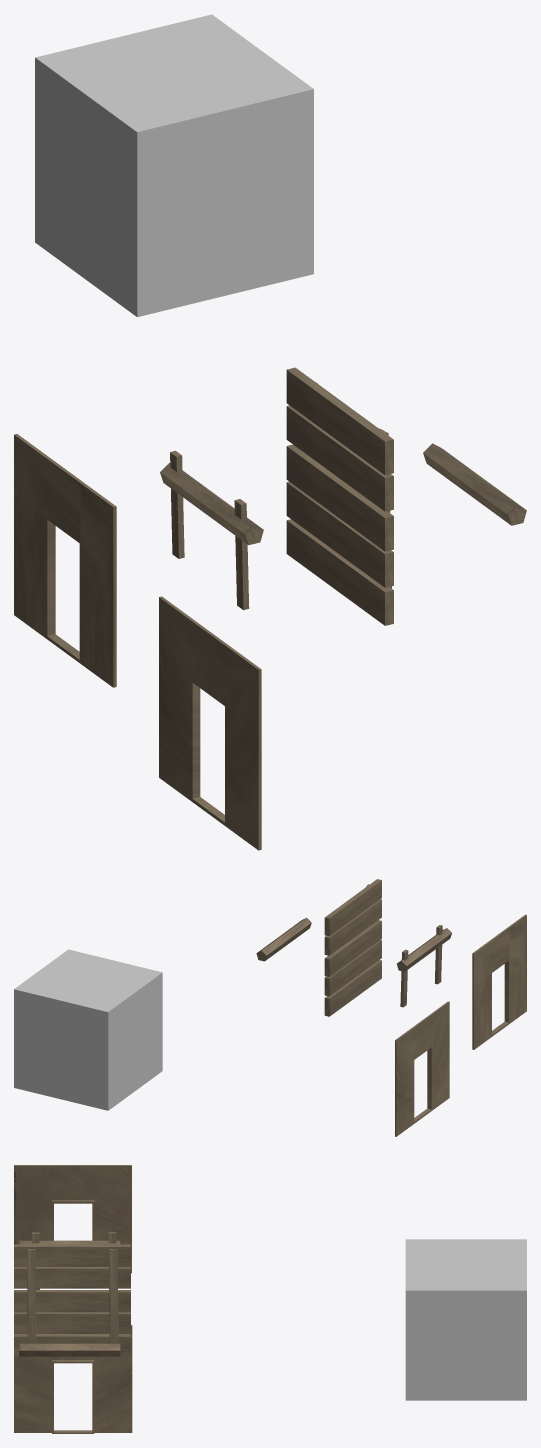
File: minimalist_fence.obj
3 views of the same model, one above another, from view 1: azimuth 30°, elevation 25°; view 2: azimuth 150°, elevation 25°; view 3: azimuth 270°, elevation 25° (orthographic). The views are drawn at different scales.
Visible parts, largest first — view 1: Cube.001, Cube.002, Cube, Cube.007, Cube.005, Cube.006, Cube.004, Cube.003, Cylinder.001, Cylinder, Cube.012_Cube.017, Cube.010; view 2: Cube.001, Cube.002, Cube, Cube.007, Cube.005, Cube.006, Cube.004, Cube.003, Cylinder.001, Cylinder, Cube.012_Cube.017, Cube.010; view 3: Cube.001, Cube.002, Cube, Cube.007, Cube.005, Cube.003, Cube.004, Cylinder.001, Cube.006, Cube.008, Cube.009, Cylinder.
Part boxes in pixels (box(x1,y1,x2,y2)): Cube.001: box(35, 14, 313, 317); Cube.002: box(14, 434, 116, 687); Cube: box(159, 596, 261, 850); Cube.007: box(286, 367, 393, 475); Cube.005: box(286, 444, 393, 551); Cube.006: box(286, 519, 393, 625); Cube.004: box(286, 405, 393, 511); Cube.003: box(286, 481, 393, 587); Cylinder.001: box(423, 443, 526, 525); Cylinder: box(160, 463, 263, 545); Cube.012_Cube.017: box(234, 499, 249, 610); Cube.010: box(170, 450, 184, 558); Cube.001: box(14, 949, 162, 1110); Cube.002: box(472, 914, 526, 1049); Cube: box(395, 1001, 449, 1136); Cube.007: box(324, 879, 381, 936); Cube.005: box(324, 920, 381, 977); Cube.006: box(324, 960, 381, 1016); Cube.004: box(324, 899, 381, 955); Cube.003: box(324, 940, 381, 996); Cylinder.001: box(256, 917, 311, 961); Cylinder: box(397, 928, 451, 971); Cube.012_Cube.017: box(434, 925, 442, 984); Cube.010: box(400, 949, 408, 1007); Cube.001: box(405, 1239, 526, 1400); Cube.002: box(14, 1165, 131, 1273); Cube: box(14, 1325, 132, 1433); Cube.007: box(14, 1244, 130, 1266); Cube.005: box(14, 1290, 130, 1312); Cube.003: box(14, 1312, 130, 1333); Cube.004: box(14, 1267, 130, 1288); Cylinder.001: box(19, 1343, 120, 1356); Cube.006: box(14, 1334, 130, 1356); Cube.008: box(26, 1249, 36, 1357); Cube.009: box(109, 1249, 118, 1357); Cylinder: box(19, 1240, 120, 1244).
Bounding box in the file's own units: 22.24 × 17.08 × 31.36.
7 materials, 6 textured.
